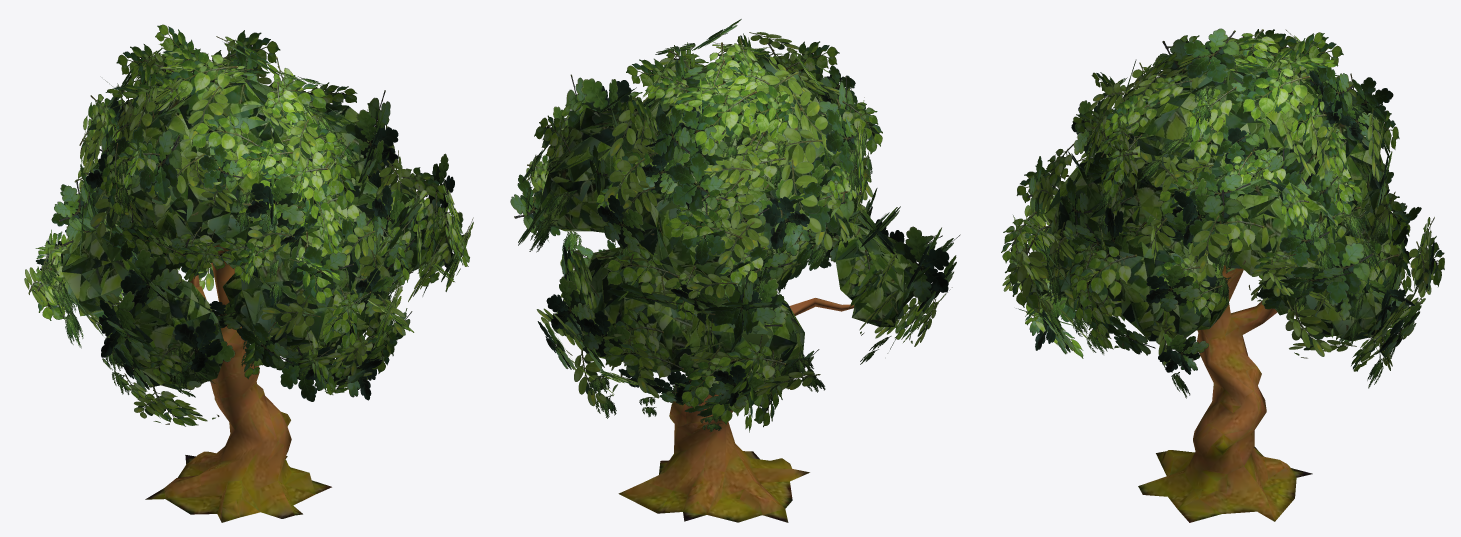
File: oak_1_field.glb
3 views of the same model, side by side, from view 1: azimuth 30°, elevation 25°; view 2: azimuth 150°, elevation 25°; view 3: azimuth 270°, elevation 25° (orthographic). The views are drawn at different scales.
Visible parts, largest first — view 1: Fable_oak_1; view 2: Fable_oak_1; view 3: Fable_oak_1.
Part boxes in pixels (x1,y1,x2,y2): Fable_oak_1: (24,24,473,522); Fable_oak_1: (510,19,960,522); Fable_oak_1: (1001,28,1444,522).
Bounding box in the file's own units: 6.73 × 7.26 × 6.6.
2 materials, 2 textured.
